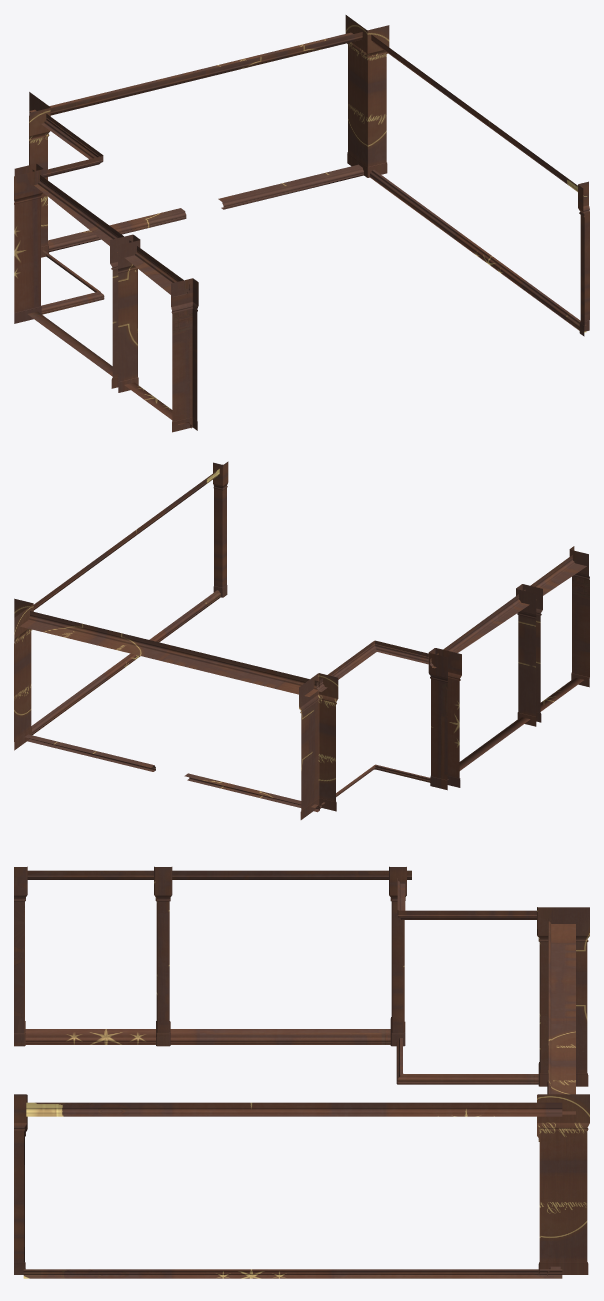
File: ChristmasRoom_Molding.fbx
3 renders of one model, top to bottom at view 1: azimuth 30°, elevation 25°; view 2: azimuth 150°, elevation 25°; view 3: azimuth 270°, elevation 25°, orthographic. The views are drawn at different scales.
Visible parts, largest first — view 1: ChristmasRoom_Molding; view 2: ChristmasRoom_Molding; view 3: ChristmasRoom_Molding.
Part boxes in pixels (x1=…): ChristmasRoom_Molding: x1=14, y1=15, x2=589, y2=432; ChristmasRoom_Molding: x1=14, y1=461, x2=589, y2=819; ChristmasRoom_Molding: x1=14, y1=866, x2=589, y2=1278.
Size of the model in its own units: 982 by 319 by 927.
